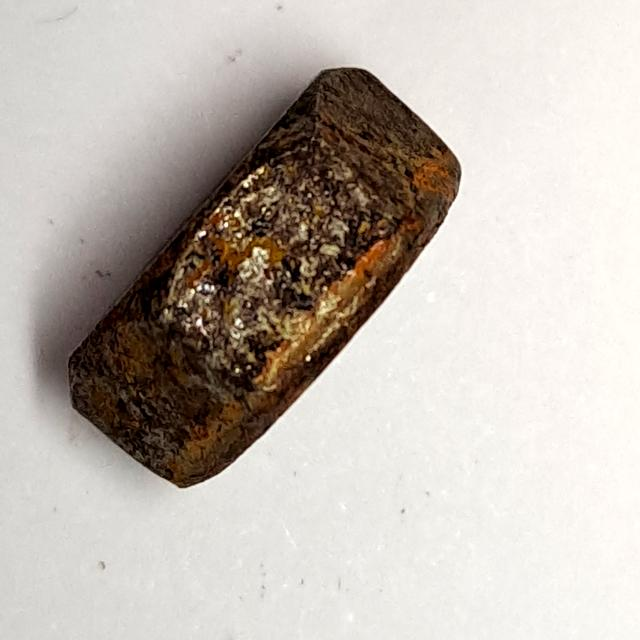Side_Rust: (53, 60, 477, 502)
